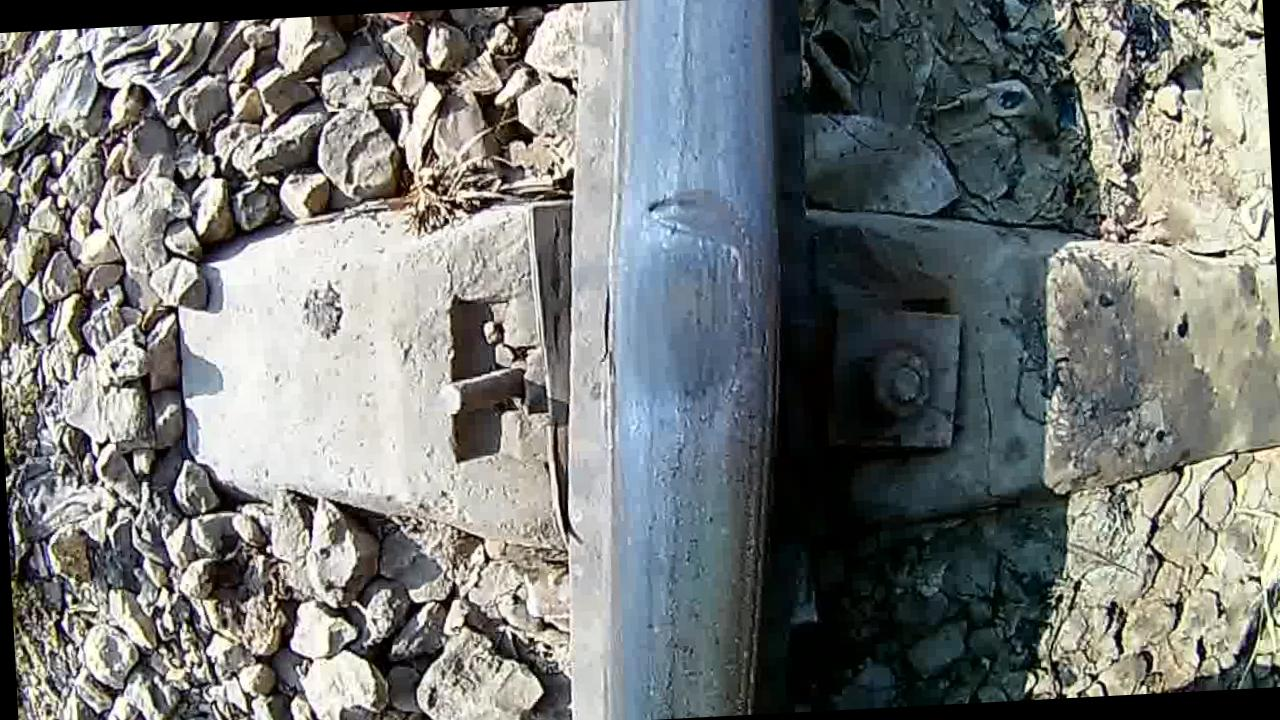bolt_missing: (559, 162, 811, 497)
